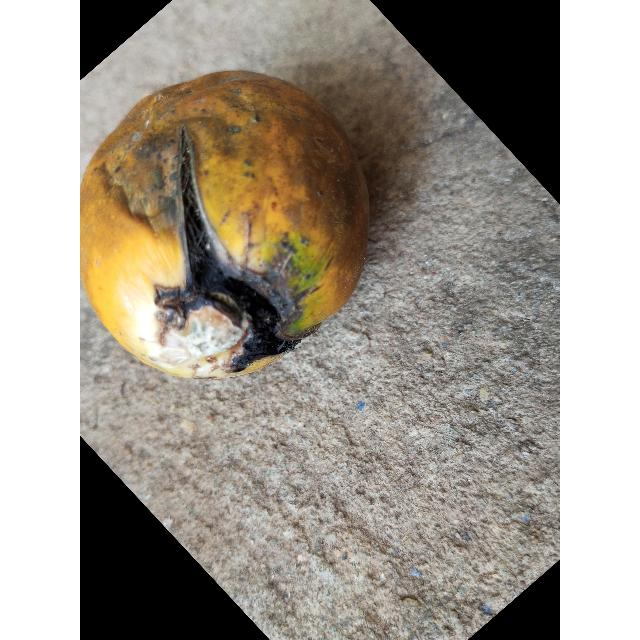damaged: (80, 71, 369, 379)
